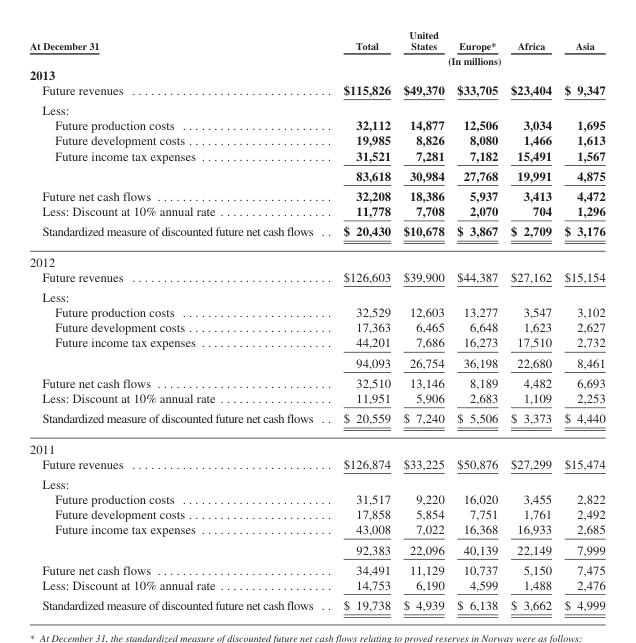table: (28, 29, 604, 611)
table column: (28, 29, 327, 611), (327, 29, 396, 611), (396, 29, 450, 611), (503, 29, 557, 611), (450, 29, 503, 611), (557, 29, 604, 611)
table column header: (28, 29, 604, 66)
table projected row header: (28, 246, 604, 268), (28, 433, 604, 455), (28, 99, 604, 117), (28, 286, 604, 304), (28, 473, 604, 491), (28, 66, 604, 81)
table row: (28, 220, 604, 246), (28, 407, 604, 433), (28, 29, 604, 52), (28, 246, 604, 268), (28, 433, 604, 455), (28, 165, 604, 185), (28, 352, 604, 372), (28, 539, 604, 559), (28, 81, 604, 99), (28, 99, 604, 117), (28, 147, 604, 165), (28, 185, 604, 203), (28, 268, 604, 286), (28, 286, 604, 304), (28, 334, 604, 352), (28, 372, 604, 390), (28, 455, 604, 473), (28, 473, 604, 491), (28, 521, 604, 539), (28, 559, 604, 577), (28, 203, 604, 220), (28, 390, 604, 407), (28, 577, 604, 594), (28, 594, 604, 611), (28, 66, 604, 81), (28, 117, 604, 132), (28, 132, 604, 147), (28, 304, 604, 319), (28, 319, 604, 334), (28, 491, 604, 506), (28, 506, 604, 521), (28, 52, 604, 66)
table spanning cell: (28, 29, 327, 66), (327, 52, 604, 66)
